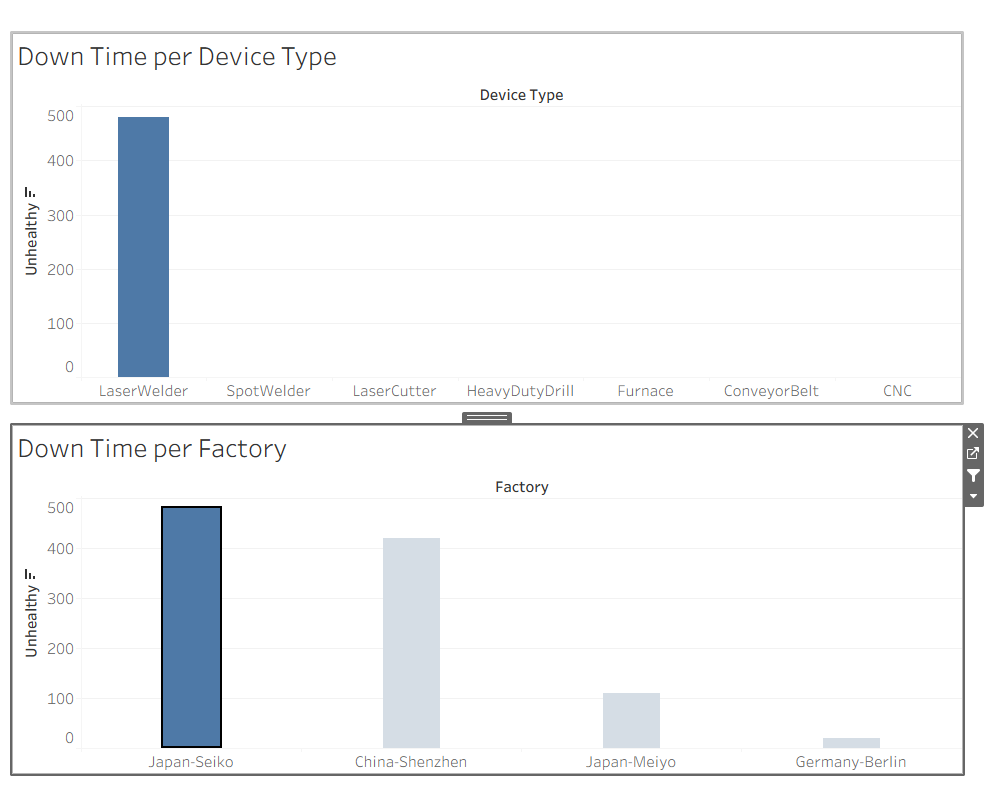

What the dashboard file says about the page in this screenshot:
{"tool":"tableau","page":{"name":"Dashboard","canvas":[1000,800],"ordinal":0},"visuals":[{"type":"worksheet","title":"Down Time per Device Type","mark":"Automatic","rows":["Calculation_0757041074851841"],"cols":["deviceType"],"box":[18,36,950,370]},{"type":"worksheet","title":"Down Time per Factory","mark":"Automatic","rows":["Calculation_0757041074851841"],"cols":["factory"],"box":[18,428,951,349]}]}

Visuals, with their boxes in screenshot pixels (x1, y1, x2, y2), scaled from the page's 1000x800 canvas onto the 986x795 screenshot:
"Down Time per Device Type" worksheet: crop(18, 36, 954, 403)
"Down Time per Factory" worksheet: crop(18, 425, 955, 772)
